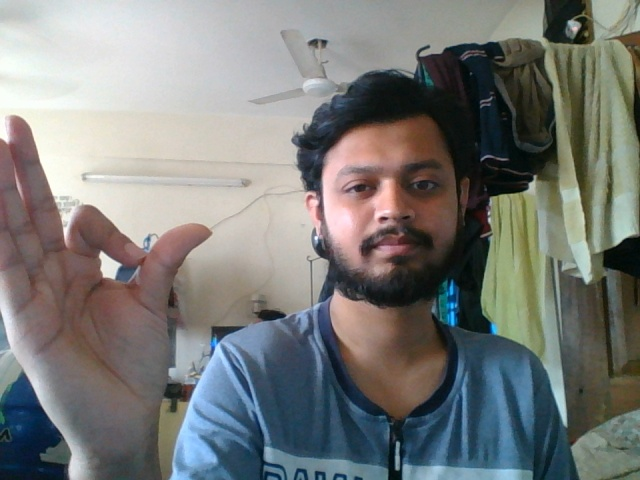uo: (1, 108, 212, 436)
